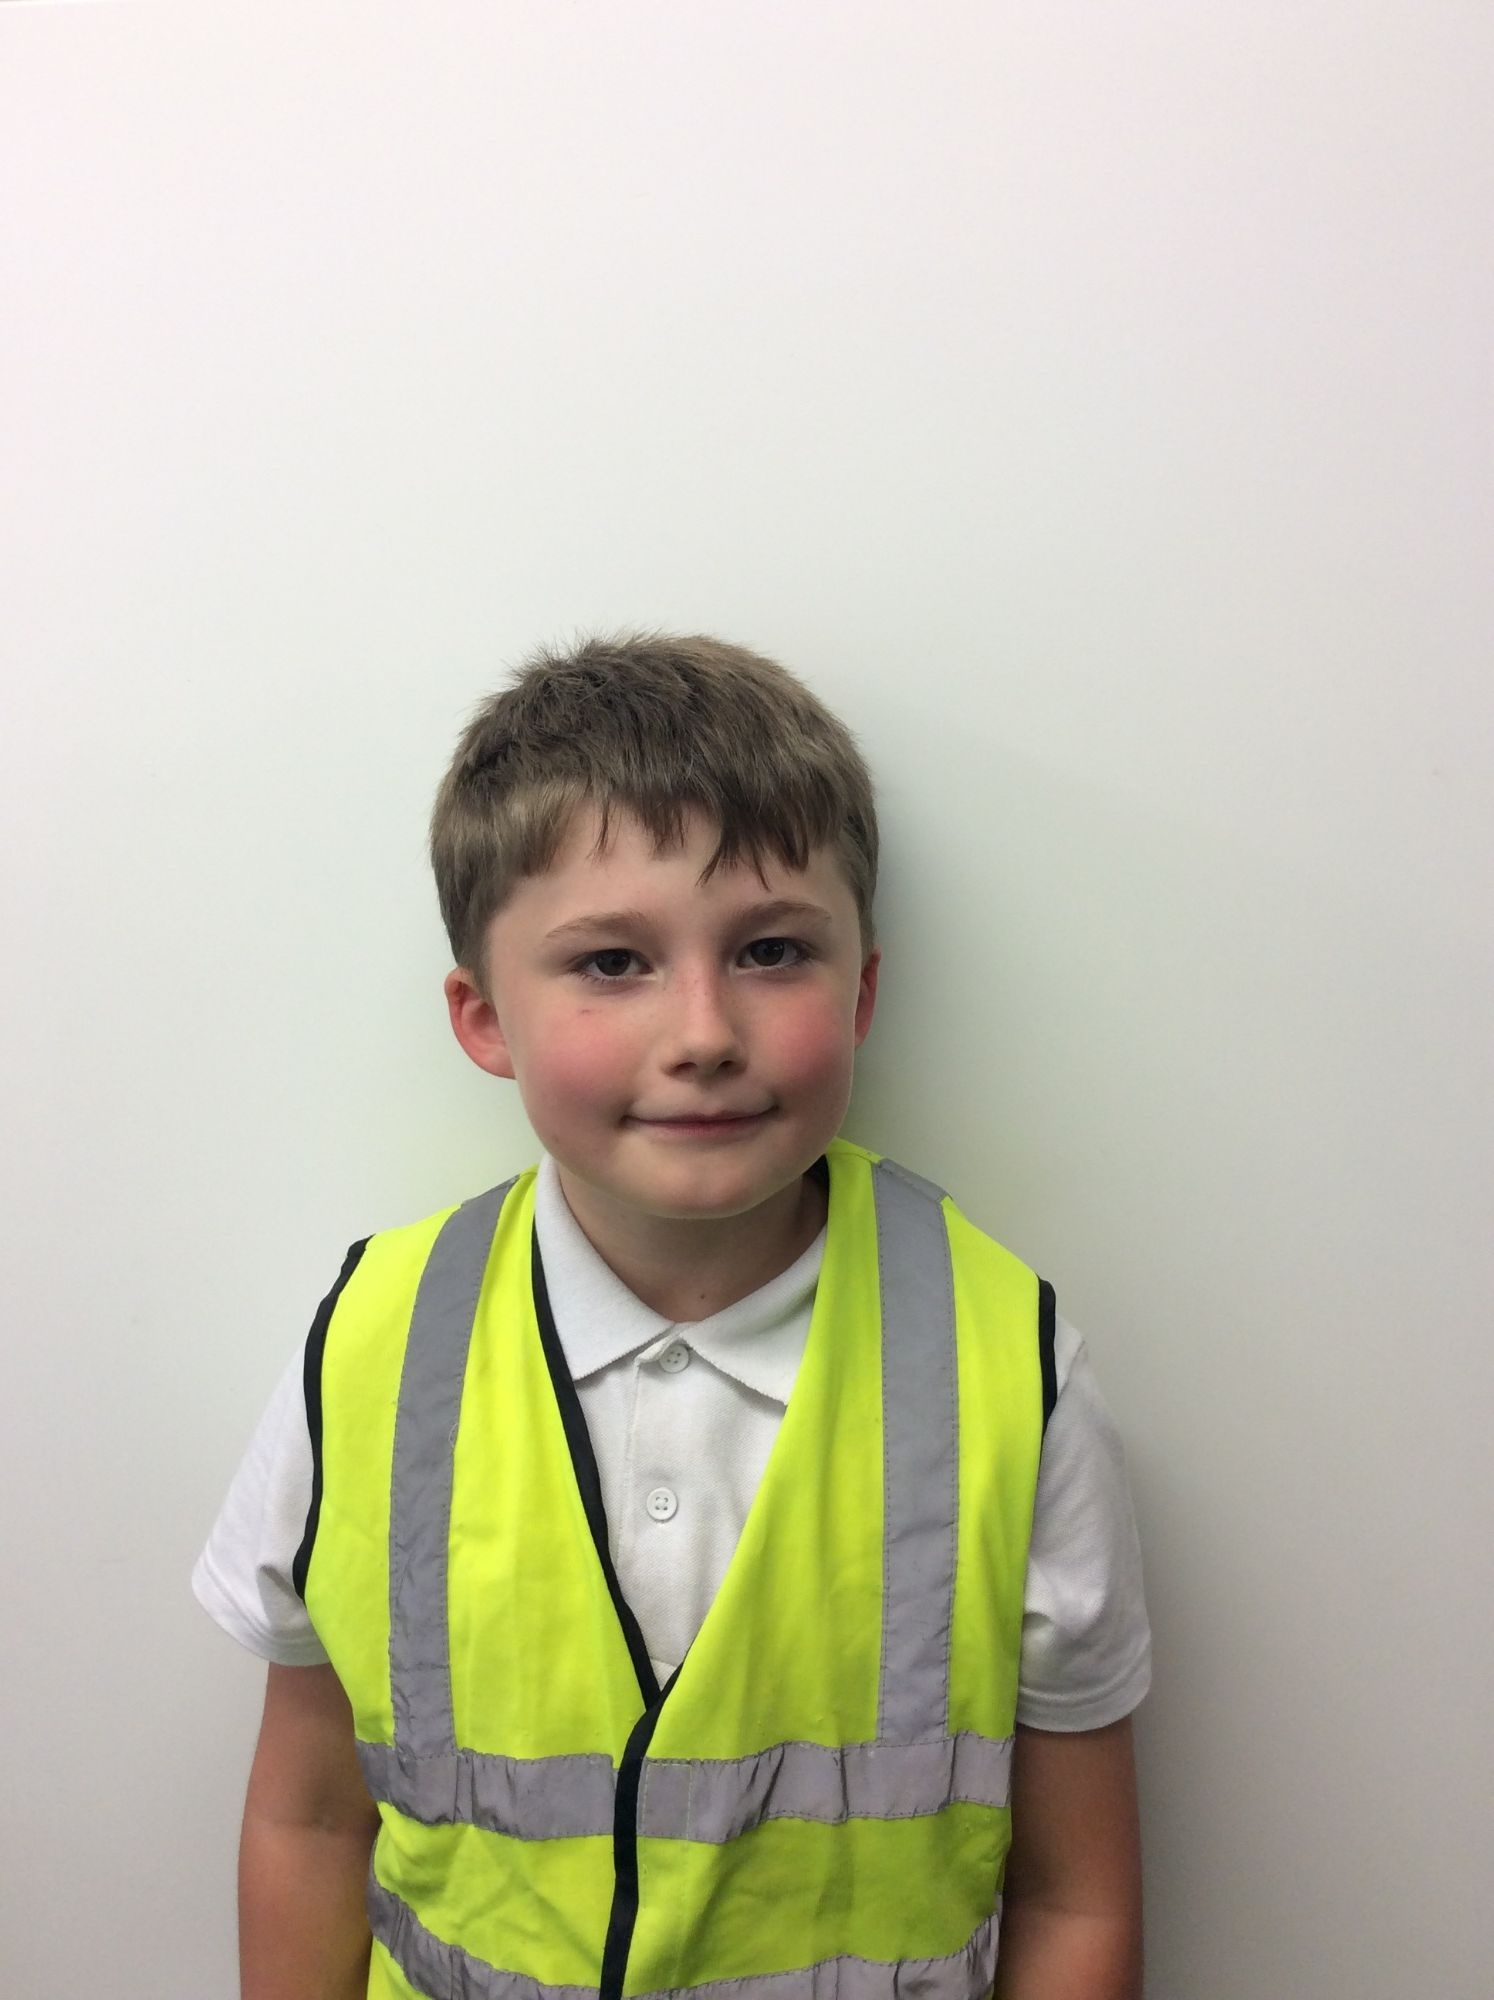person with partial safety: (239, 639, 1131, 1981)
safety vest: (320, 1175, 1021, 2000)
